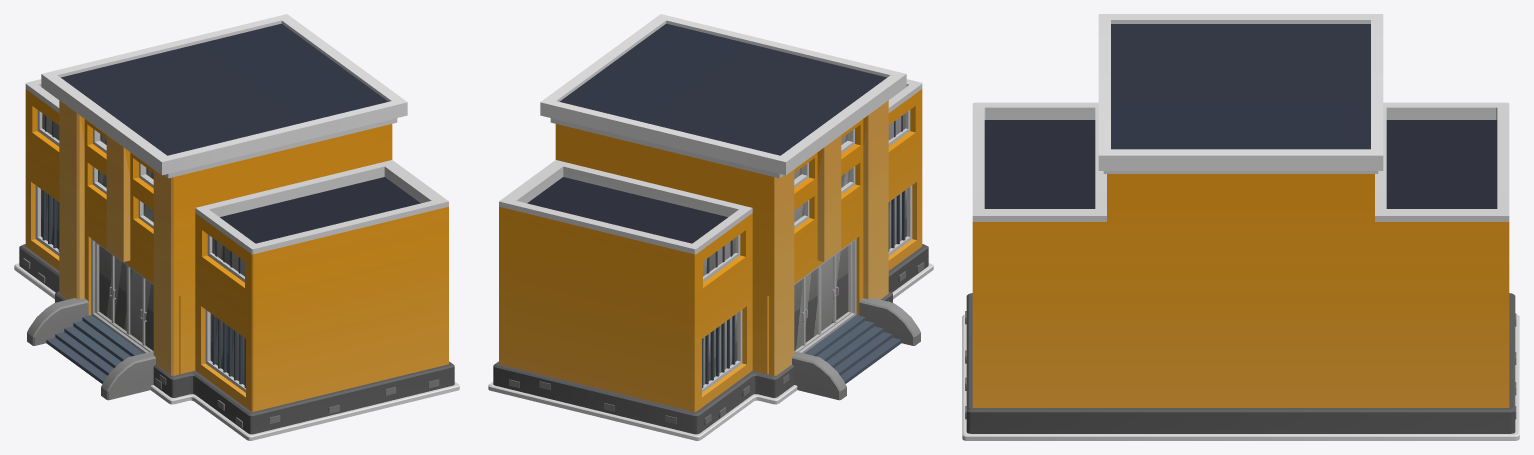
The model's file is Building_14_D.fbx.
3 views of the same model, side by side, from view 1: azimuth 30°, elevation 25°; view 2: azimuth 150°, elevation 25°; view 3: azimuth 270°, elevation 25° (orthographic). The views are drawn at different scales.
Parts seen in each view (by area): view 1: Building_14_D; view 2: Building_14_D; view 3: Building_14_D.
Boxes of the visible parts, <box> form: Building_14_D: <box>14,14,459,440</box>; Building_14_D: <box>488,14,933,440</box>; Building_14_D: <box>962,14,1519,440</box>.
Bounding box in the file's own units: 908 × 755 × 1325.
